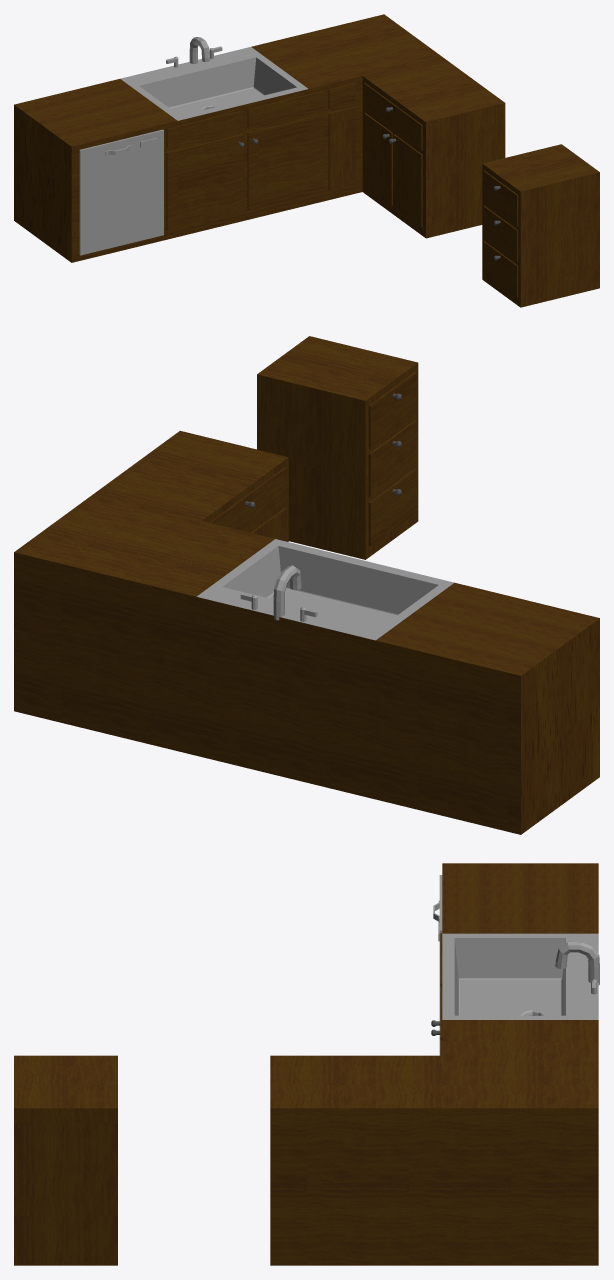
File: Kitchen.fbx
3 renders of one model, top to bottom at view 1: azimuth 30°, elevation 25°; view 2: azimuth 150°, elevation 25°; view 3: azimuth 270°, elevation 25°, orthographic. The views are drawn at different scales.
Visible parts, largest first — view 1: Cube.009; view 2: Cube.009; view 3: Cube.009.
Boxes of the visible parts, x1,y1,x2,y2 form: Cube.009: [14, 14, 599, 307]; Cube.009: [14, 336, 599, 834]; Cube.009: [14, 863, 599, 1265].
Size of the model in its own units: 1698 by 635 by 1717.
Materials: 4 (1 with a texture image).
